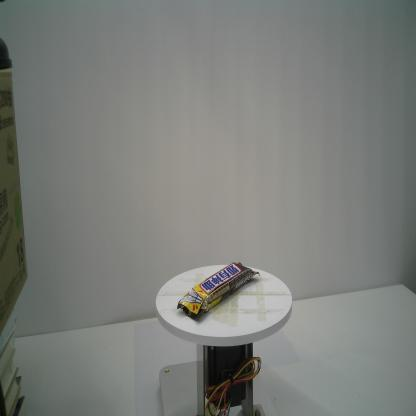Chocolate: (176, 260, 260, 322)
